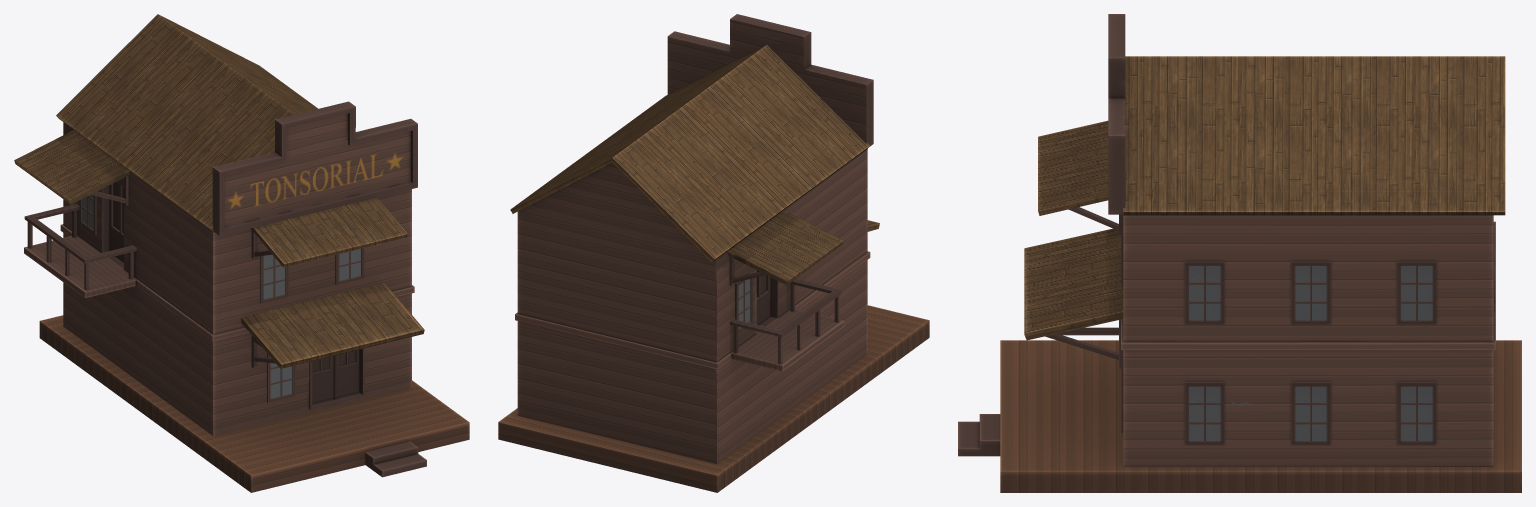
File: Building_11.fbx
The picture shows the model from 3 angles, left to right: view 1: azimuth 30°, elevation 25°; view 2: azimuth 150°, elevation 25°; view 3: azimuth 270°, elevation 25°; orthographic projection. The views are drawn at different scales.
Parts seen in each view (by area): view 1: Building_11; view 2: Building_11; view 3: Building_11.
Part boxes in pixels (left/top/right/bottom): Building_11: left=14, top=14, right=469, bottom=492; Building_11: left=498, top=14, right=929, bottom=492; Building_11: left=958, top=14, right=1521, bottom=492.
Bounding box in the file's own units: 222 × 331 × 254.
1 material, 1 textured.
